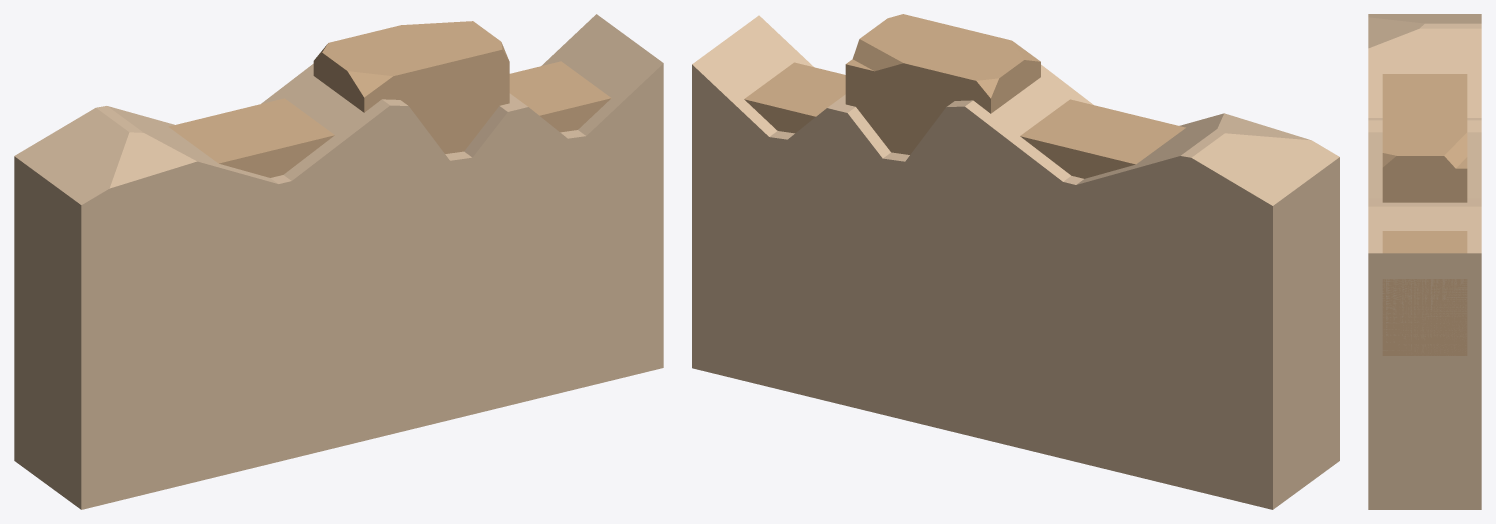
File: Wall_Ruined_Half_2.obj
The picture shows the model from 3 angles, left to right: view 1: azimuth 30°, elevation 25°; view 2: azimuth 150°, elevation 25°; view 3: azimuth 270°, elevation 25°; orthographic projection. The views are drawn at different scales.
Parts seen in each view (by area): view 1: object3, object4, object1, object2; view 2: object3, object4, object1, object2; view 3: object3, object4, object2, object1.
Boxes of the visible parts, left/top/right/bottom form: object3: left=14, top=14, right=663, bottom=509; object4: left=313, top=21, right=509, bottom=153; object1: left=168, top=98, right=334, bottom=177; object2: left=509, top=61, right=611, bottom=132; object3: left=692, top=15, right=1339, bottom=509; object4: left=845, top=14, right=1040, bottom=154; object1: left=1020, top=99, right=1185, bottom=178; object2: left=744, top=62, right=845, bottom=133; object3: left=1368, top=14, right=1481, bottom=509; object4: left=1382, top=96, right=1467, bottom=202; object2: left=1382, top=231, right=1467, bottom=355; object1: left=1382, top=74, right=1467, bottom=107.
Size of the model in its own units: 1 by 0.5734 by 0.2.
